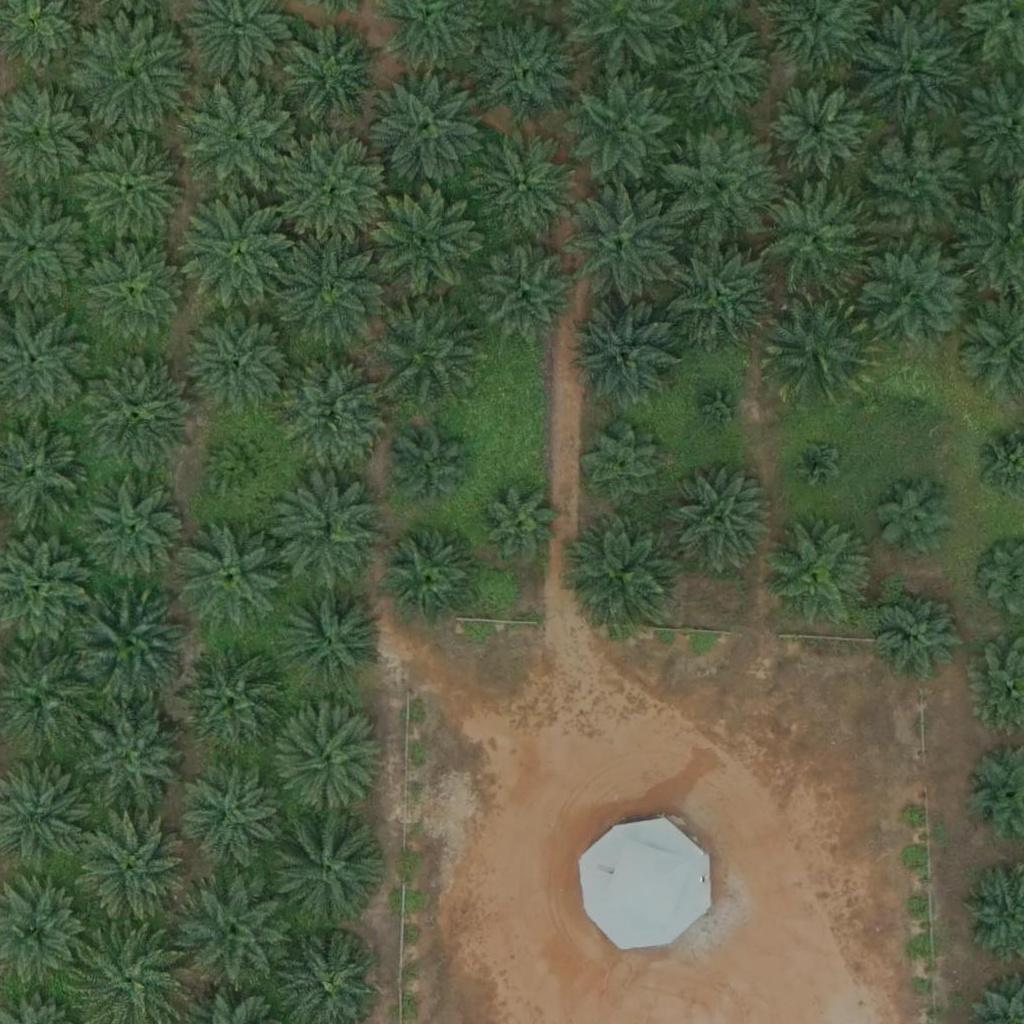Kelapa_Sawit: (855, 10, 968, 124), (277, 354, 390, 468), (183, 195, 296, 309), (859, 131, 972, 244), (567, 75, 680, 188), (567, 188, 680, 301), (570, 303, 683, 416), (465, 124, 578, 237), (281, 135, 394, 248), (275, 230, 388, 343), (186, 86, 299, 199), (78, 19, 191, 132), (175, 521, 288, 634), (172, 643, 285, 756), (271, 478, 384, 591), (275, 582, 388, 695), (275, 705, 388, 818), (270, 817, 383, 930), (570, 516, 683, 629), (79, 133, 191, 247), (76, 698, 188, 812), (75, 815, 187, 929), (178, 876, 290, 990), (762, 516, 874, 630), (761, 292, 873, 405), (864, 238, 976, 351), (759, 182, 871, 295), (659, 128, 771, 241), (663, 235, 775, 348), (371, 72, 483, 185), (376, 184, 488, 297), (375, 291, 487, 404), (81, 359, 193, 472), (76, 591, 188, 704), (663, 466, 775, 579), (768, 79, 868, 180), (670, 20, 770, 121), (476, 17, 576, 118), (477, 244, 577, 345), (286, 23, 386, 124), (86, 480, 186, 581), (191, 312, 291, 412), (84, 243, 184, 343), (181, 763, 281, 863), (386, 534, 474, 623), (879, 589, 967, 677), (582, 424, 669, 512), (873, 474, 960, 562), (395, 434, 470, 510), (481, 485, 556, 560), (212, 437, 274, 500), (697, 382, 747, 433), (791, 438, 841, 489), (888, 375, 938, 425)
